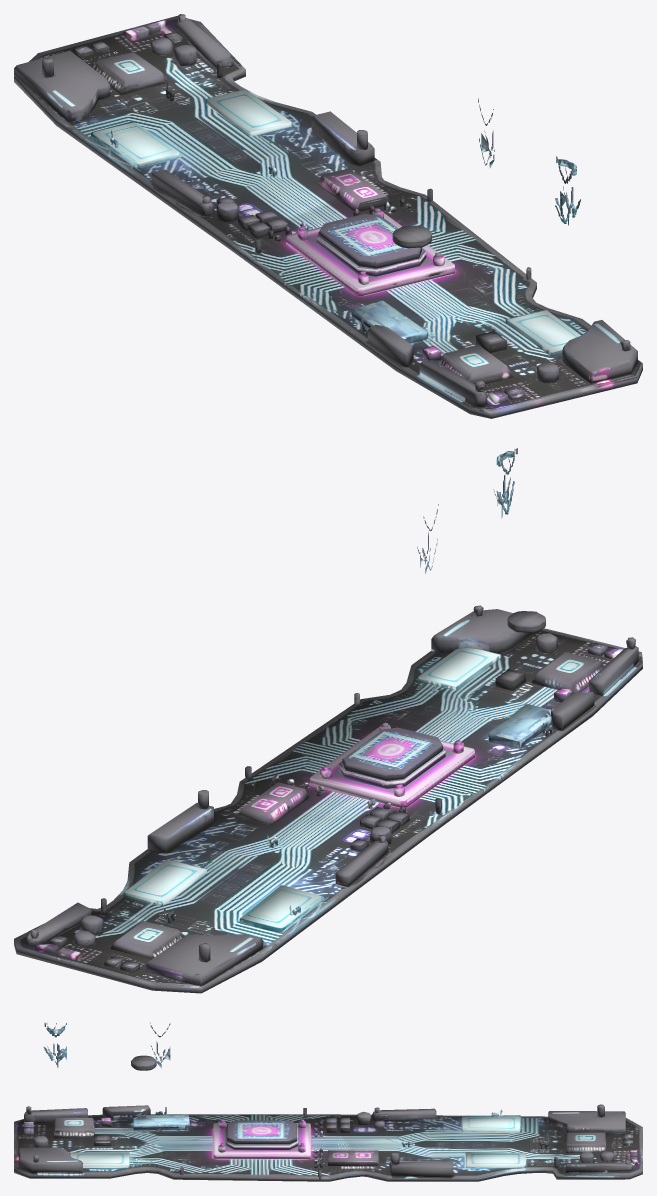
Rendered from selected.glb.
3 renders of one model, top to bottom at view 1: azimuth 30°, elevation 25°; view 2: azimuth 150°, elevation 25°; view 3: azimuth 270°, elevation 25°, orthographic. The views are drawn at different scales.
Visible parts, largest first — view 1: tripo_node_3bdd3823-1a65-4782-81a2-904f9aef48b8; view 2: tripo_node_3bdd3823-1a65-4782-81a2-904f9aef48b8; view 3: tripo_node_3bdd3823-1a65-4782-81a2-904f9aef48b8.
Part boxes in pixels (box(x1,y1,x2,y2)): tripo_node_3bdd3823-1a65-4782-81a2-904f9aef48b8: box(14, 14, 642, 418); tripo_node_3bdd3823-1a65-4782-81a2-904f9aef48b8: box(14, 448, 642, 993); tripo_node_3bdd3823-1a65-4782-81a2-904f9aef48b8: box(14, 1022, 642, 1181).
Size of the model in its own units: 0.2402 by 0.2441 by 0.998.
Materials: 1 (1 with a texture image).
